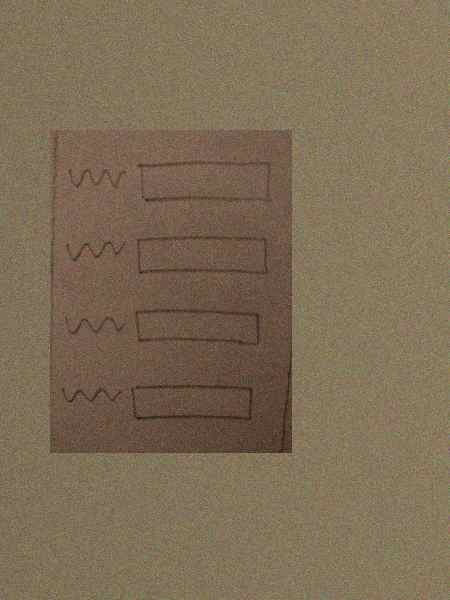text: (59, 309, 127, 338), (58, 379, 126, 408), (63, 236, 128, 265), (67, 164, 126, 193)
text_input: (132, 229, 275, 280), (135, 155, 278, 205), (133, 308, 265, 347), (127, 383, 259, 422)
